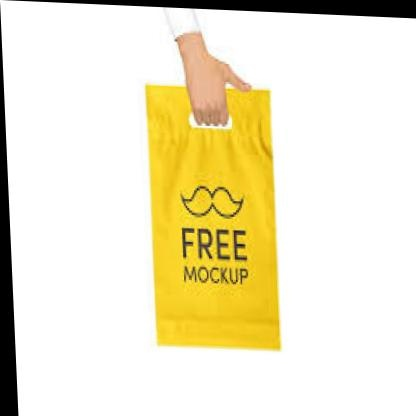trash: (146, 85, 279, 348)
